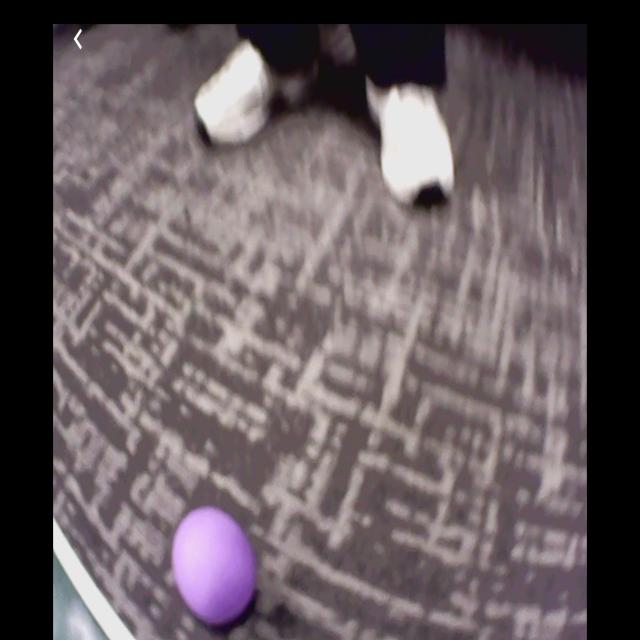ball: (172, 507, 257, 623)
